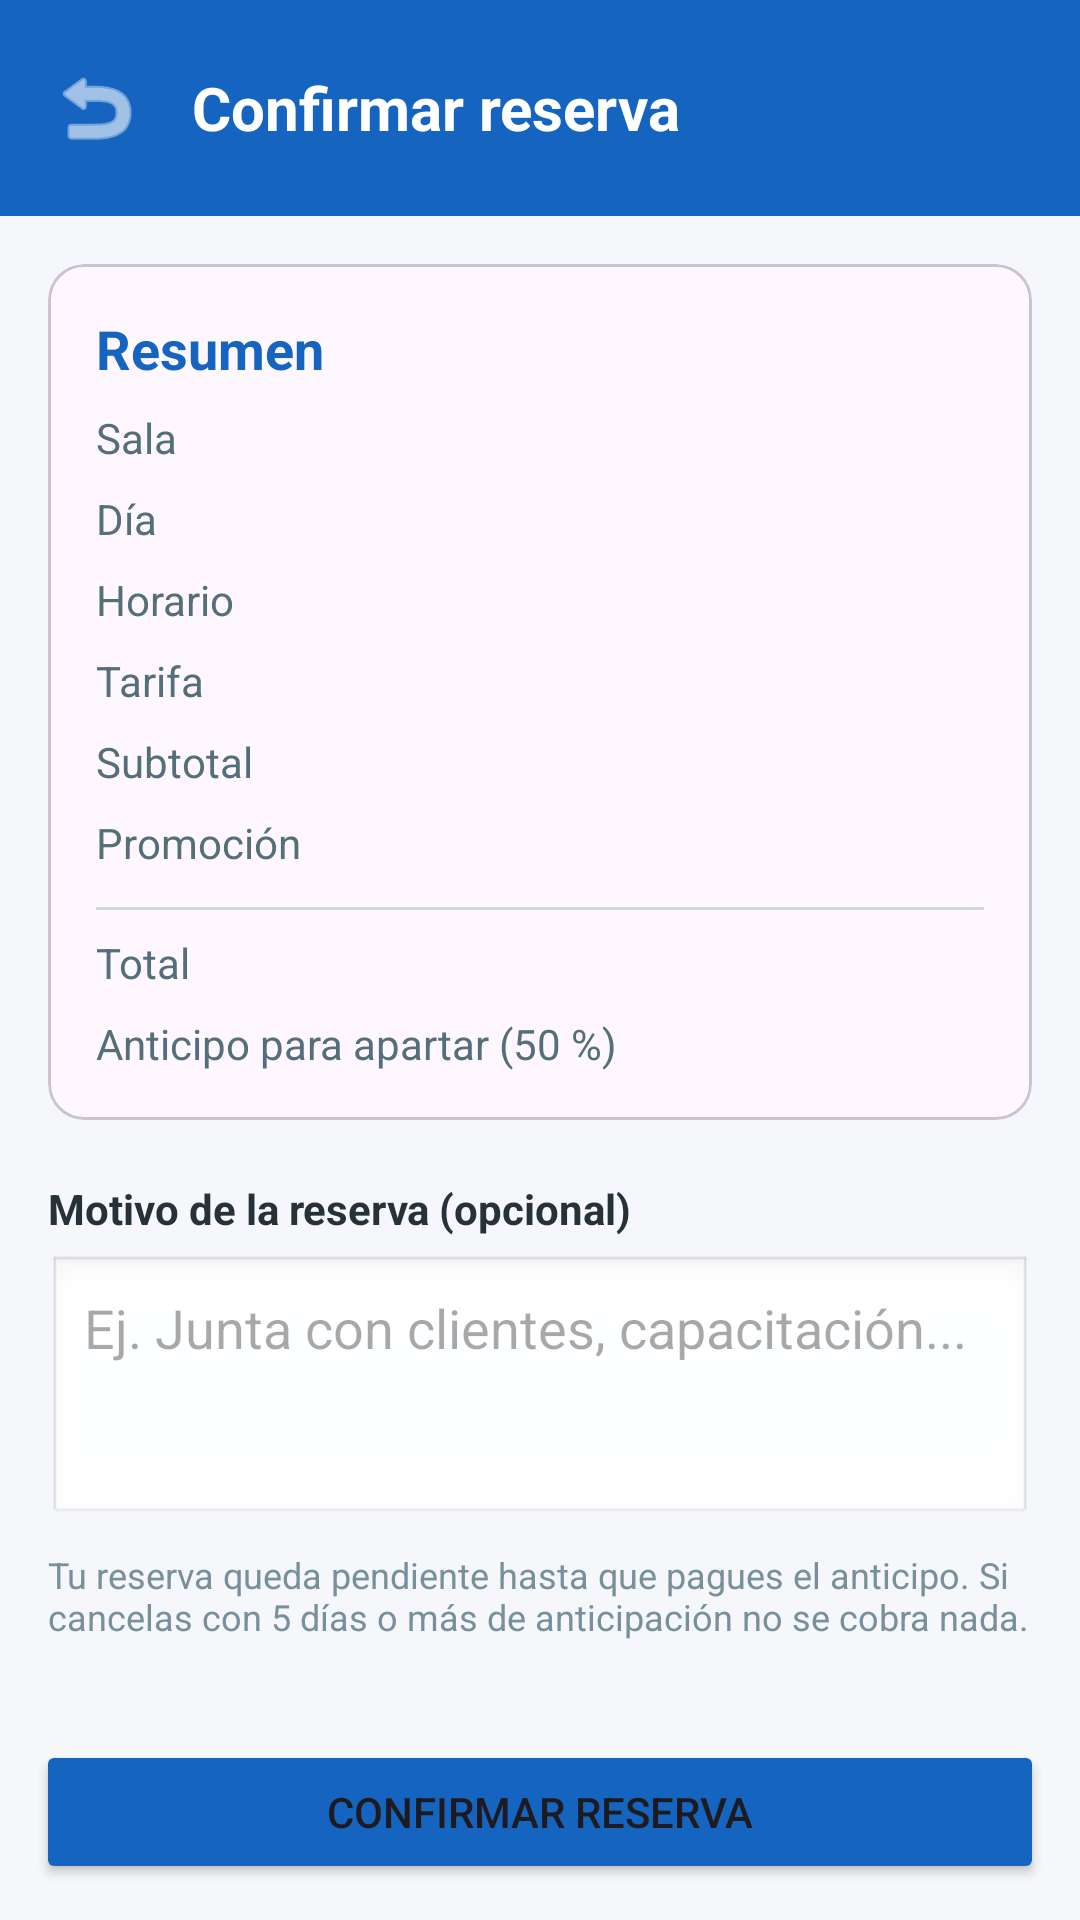

Icons on this 1080 x 1920 Android screen, each with its box as (x1, y1, x2, y2):
Regresar: (63, 77, 132, 140)
